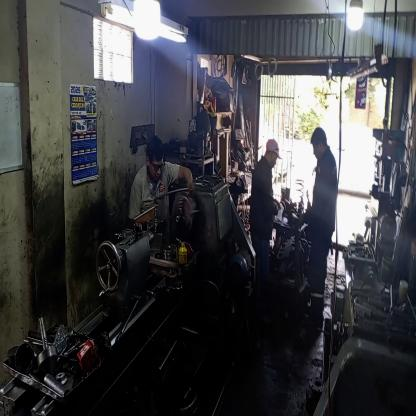lentes: (148, 157, 166, 173)
